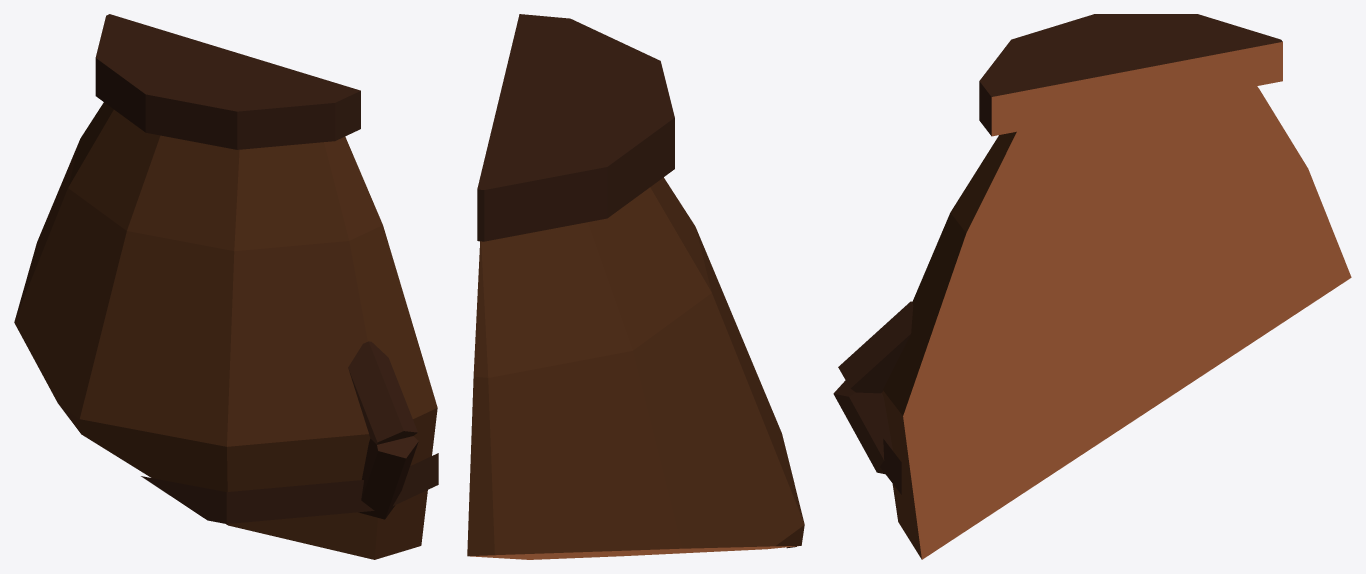
The model's file is jar_01_shard_2.glb.
3 renders of one model, left to right at view 1: azimuth 30°, elevation 25°; view 2: azimuth 150°, elevation 25°; view 3: azimuth 270°, elevation 25°, orthographic. The views are drawn at different scales.
Visible parts, largest first — view 1: jar_01_shard_2; view 2: jar_01_shard_2; view 3: jar_01_shard_2.
Part boxes in pixels (left/top/right/bottom): jar_01_shard_2: left=14, top=14, right=438, bottom=559; jar_01_shard_2: left=467, top=14, right=804, bottom=559; jar_01_shard_2: left=833, top=14, right=1351, bottom=559.
Bounding box in the file's own units: 0.4598 × 0.684 × 0.7145.
Materials: 3 (2 with a texture image).
